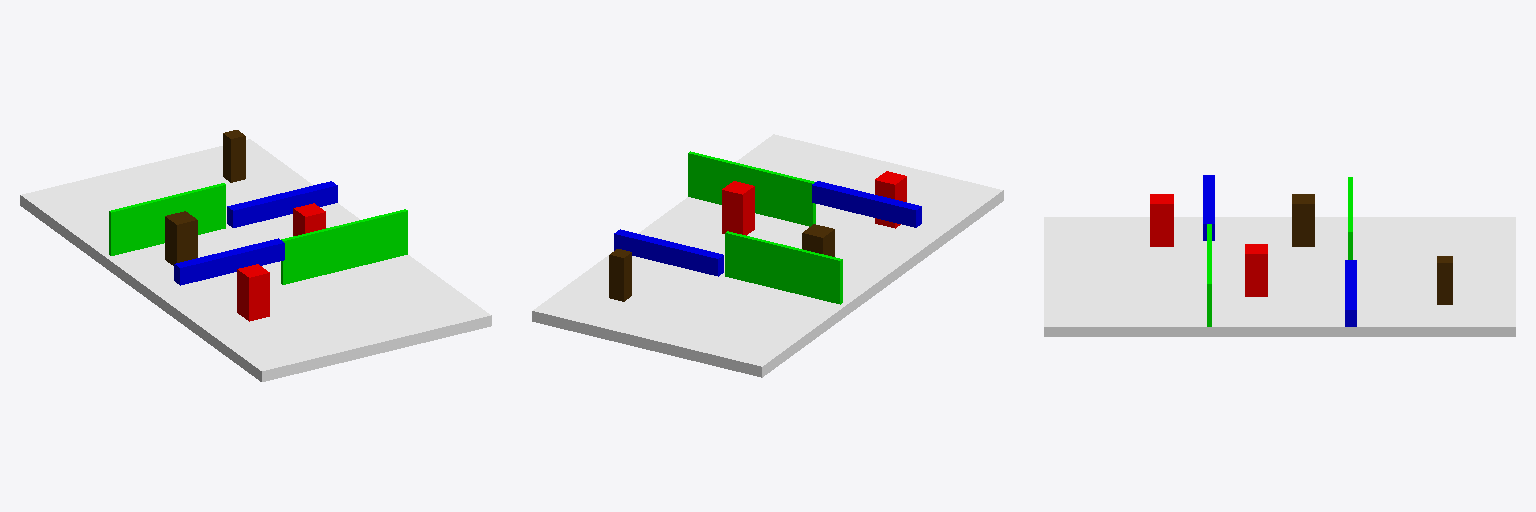
robot.urdf — office:
<?xml version="1.0"?>
<robot name="office">

   <material name="Brown">
     <color rgba="0.33 0.21 0.04 1"/>
   </material>

   <material name="White">
    <color rgba="1 1 1 1"/>
   </material>

   <material name="Grey">
    <color rgba=".3 .3 .3 1"/>
   </material>

    <material name="Red">
     <color rgba="1 0 0 1"/>
    </material>

    <material name="Green">
     <color rgba="0 1 0 1"/>
    </material>

    <material name="Blue">
     <color rgba="0 0 1 1"/>
    </material>

   <link name="ground">
   	<inertial>
   		<mass value=".5" />
   		<origin xyz="0 0 0" rpy="0 0 0"/>
		<inertia ixx="10"  ixy="0"  ixz="0" iyy="10" iyz="0" izz="10" />
   	</inertial>
  	<visual>
      <origin xyz="0 9 -0.25" rpy="0 0 0" />
      <geometry>
        <box size="11 20 0.5" />
      </geometry>
      <material name="White"/>
    </visual>
    <collision>
      <origin xyz="0 9 -0.25" rpy="0 0 0" />
      <geometry>
        <box size="11 20 0.5" />
      </geometry>
    </collision>
   </link>

   <link name="obs1">
   	<inertial>
   		<mass value=".5" />
   		<origin xyz="0 0 0" rpy="0 0 0"/>
		<inertia ixx="10"  ixy="0"  ixz="0" iyy="10" iyz="0" izz="10" />
   	</inertial>
  	<visual>
      <origin xyz="2.5 6 1" rpy="0 0 0" />
      <geometry>
        <box size="6 0.2 2" />
      </geometry>
      <material name="Green"/>
    </visual>
    <collision>
      <origin xyz="2.5 6 1" rpy="0 0 0" />
      <geometry>
        <box size="6 0.2 2" />
      </geometry>
    </collision>
   </link>

   <link name="obs2">
   	<inertial>
   		<mass value=".5" />
   		<origin xyz="0 0 0" rpy="0 0 0"/>
		<inertia ixx="10"  ixy="0"  ixz="0" iyy="10" iyz="0" izz="10" />
   	</inertial>
  	<visual>
      <origin xyz="2 8 1" rpy="0 0 0" />
      <geometry>
        <box size="1 1 2" />
      </geometry>
      <material name="Red"/>
    </visual>
    <collision>
      <origin xyz="2 8 1" rpy="0 0 0" />
      <geometry>
        <box size="1 1 2" />
      </geometry>
      <material name="Red"/>
    </collision>
   </link>

   <link name="obs3">
   	<inertial>
   		<mass value=".5" />
   		<origin xyz="0 0 0" rpy="0 0 0"/>
		<inertia ixx="10"  ixy="0"  ixz="0" iyy="10" iyz="0" izz="10" />
   	</inertial>
  	<visual>
      <origin xyz="-3 4 1" rpy="0 0 0" />
      <geometry>
        <box size="1 1 2" />
      </geometry>
      <material name="Red"/>
    </visual>
    <collision>
      <origin xyz="-3 4 1" rpy="0 0 0" />
      <geometry>
        <box size="1 1 2" />
      </geometry>
      <material name="Red"/>
    </collision>
   </link>

   <link name="obs4">
   	<inertial>
   		<mass value=".5" />
   		<origin xyz="0 0 0" rpy="0 0 0"/>
		<inertia ixx="10"  ixy="0"  ixz="0" iyy="10" iyz="0" izz="10" />
   	</inertial>
  	<visual>
      <origin xyz="-3 6 1.6" rpy="0 0 0" />
      <geometry>
        <box size="5 .5 .8" />
      </geometry>
      <material name="Blue"/>
    </visual>
    <collision>
      <origin xyz="-3 6 1.6" rpy="0 0 0" />
      <geometry>
        <box size="5 .5 .8" />
      </geometry>
      <material name="Blue"/>
    </collision>
   </link>


   <link name="obs5">
   	<inertial>
   		<mass value=".5" />
   		<origin xyz="0 0 0" rpy="0 0 0"/>
		<inertia ixx="10"  ixy="0"  ixz="0" iyy="10" iyz="0" izz="10" />
   	</inertial>
  	<visual>
      <origin xyz="-3 10 1" rpy="0 0 0" />
      <geometry>
        <box size="1 1 2" />
      </geometry>
      <material name="Brown"/>
    </visual>
    <collision>
      <origin xyz="-3 10 1" rpy="0 0 0" />
      <geometry>
        <box size="1 1 2" />
      </geometry>
      <material name="Brown"/>
    </collision>
   </link>


  <link name="obs6">
   	<inertial>
   		<mass value=".5" />
   		<origin xyz="0 0 0" rpy="0 0 0"/>
		<inertia ixx="10"  ixy="0"  ixz="0" iyy="10" iyz="0" izz="10" />
   	</inertial>
  	<visual>
      <origin xyz="-2.5 12 1" rpy="0 0 0" />
      <geometry>
        <box size="5.5 0.2 2" />
      </geometry>
      <material name="Green"/>
    </visual>
    <collision>
      <origin xyz="-2.5 12 1" rpy="0 0 0" />
      <geometry>
        <box size="6 0.2 2" />
      </geometry>
    </collision>
   </link>




  <link name="obs7">
   	<inertial>
   		<mass value=".5" />
   		<origin xyz="0 0 0" rpy="0 0 0"/>
		<inertia ixx="10"  ixy="0"  ixz="0" iyy="10" iyz="0" izz="10" />
   	</inertial>
  	<visual>
      <origin xyz="3 12 0.4" rpy="0 0 0" />
      <geometry>
        <box size="5 .5 .8" />
      </geometry>
      <material name="Blue"/>
    </visual>
    <collision>
      <origin xyz="3 12 0.4" rpy="0 0 0" />
      <geometry>
        <box size="5 .5 .8" />
      </geometry>
      <material name="Blue"/>
    </collision>
   </link>

   <link name="obs8">
   	<inertial>
   		<mass value=".5" />
   		<origin xyz="0 0 0" rpy="0 0 0"/>
		<inertia ixx="10"  ixy="0"  ixz="0" iyy="10" iyz="0" izz="10" />
   	</inertial>
  	<visual>
      <origin xyz="3 16 1" rpy="0 0 0" />
      <geometry>
        <box size=".7 .7 2" />
      </geometry>
      <material name="Brown"/>
    </visual>
    <collision>
      <origin xyz="3 16 1" rpy="0 0 0" />
      <geometry>
        <box size="1 1 2" />
      </geometry>
      <material name="Brown"/>
    </collision>
   </link>
   
		<joint name="obs1_to_ground" type="fixed">
			<parent link="ground"/>
			<child link="obs1"/>
			<origin xyz="0 0 0"/>
		</joint>

		<joint name="obs2_to_ground" type="fixed">
			<parent link="ground"/>
			<child link="obs2"/>
			<origin xyz="0 0 0"/>
		</joint>


		<joint name="obs3_to_ground" type="fixed">
			<parent link="ground"/>
			<child link="obs3"/>
			<origin xyz="0 0 0"/>
		</joint>

		<joint name="obs4_to_ground" type="fixed">
			<parent link="ground"/>
			<child link="obs4"/>
			<origin xyz="0 0 0"/>
		</joint>

    <joint name="obs5_to_ground" type="fixed">
			<parent link="ground"/>
			<child link="obs5"/>
			<origin xyz="0 0 0"/>
		</joint>

    <joint name="obs6_to_ground" type="fixed">
			<parent link="ground"/>
			<child link="obs6"/>
			<origin xyz="0 0 0"/>
		</joint>

    <joint name="obs7_to_ground" type="fixed">
			<parent link="ground"/>
			<child link="obs7"/>
			<origin xyz="0 0 0"/>
		</joint>

    <joint name="obs8_to_ground" type="fixed">
			<parent link="ground"/>
			<child link="obs8"/>
			<origin xyz="0 0 0"/>
		</joint>


</robot>

--- Facts derived from the render (not from the file) ---
Views: 3 orthographic renders of the robot side by side, from view 1: azimuth 30°, elevation 25°; view 2: azimuth 150°, elevation 25°; view 3: azimuth 270°, elevation 25°.
Robot: office — 9 links, 8 joints (8 fixed); root link ground; default pose: every joint at zero.
Links seen in each view (by area): view 1: ground, obs1, obs6, obs4, obs7, obs3, obs5, obs8, obs2; view 2: ground, obs6, obs1, obs4, obs7, obs2, obs8, obs3, obs5; view 3: ground, obs3, obs2, obs5, obs7, obs8, obs4.
Link boxes in pixels (box(x1,y1,x2,y2)): ground: box(20, 139, 491, 381); obs1: box(281, 209, 407, 284); obs6: box(109, 183, 225, 255); obs4: box(174, 238, 284, 285); obs7: box(227, 181, 337, 227); obs3: box(237, 264, 269, 321); obs5: box(165, 211, 197, 265); obs8: box(223, 130, 245, 182); obs2: box(293, 203, 325, 235); ground: box(532, 134, 1003, 377); obs6: box(725, 231, 842, 304); obs1: box(688, 151, 815, 226); obs4: box(812, 181, 921, 227); obs7: box(614, 229, 723, 276); obs2: box(722, 181, 754, 235); obs8: box(609, 249, 631, 301); obs3: box(875, 171, 906, 228); obs5: box(802, 224, 834, 256); ground: box(1044, 217, 1515, 336); obs3: box(1150, 194, 1173, 246); obs2: box(1245, 244, 1267, 296); obs5: box(1292, 194, 1314, 246); obs7: box(1345, 260, 1356, 326); obs8: box(1437, 256, 1452, 304); obs4: box(1203, 175, 1214, 240).
Size in the robot's own frame: 11 by 20 by 2.5 metres.
Geometry: primitives only (box / cylinder / sphere), no mesh files.
